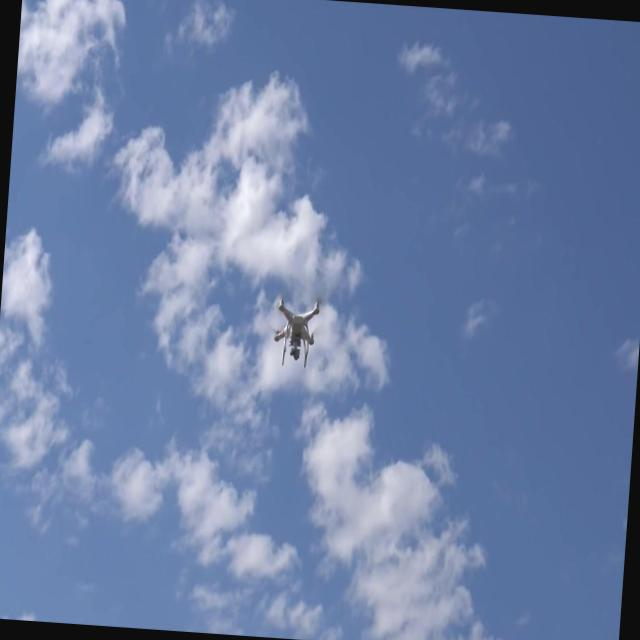drone: (270, 293, 322, 371)
